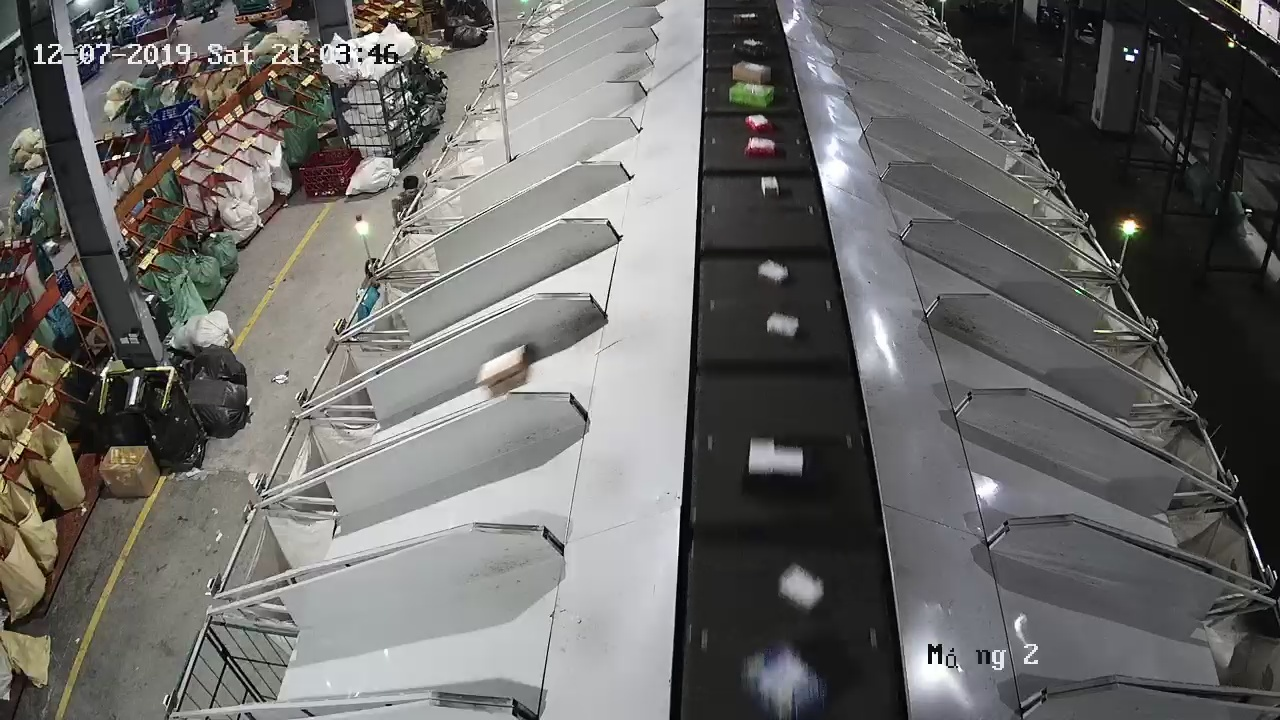parcel: (475, 343, 529, 395)
